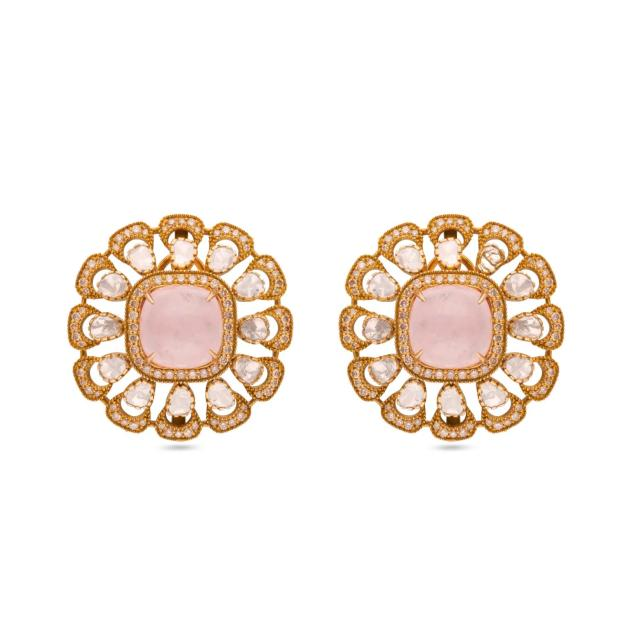missing gem: (480, 246, 502, 272)
